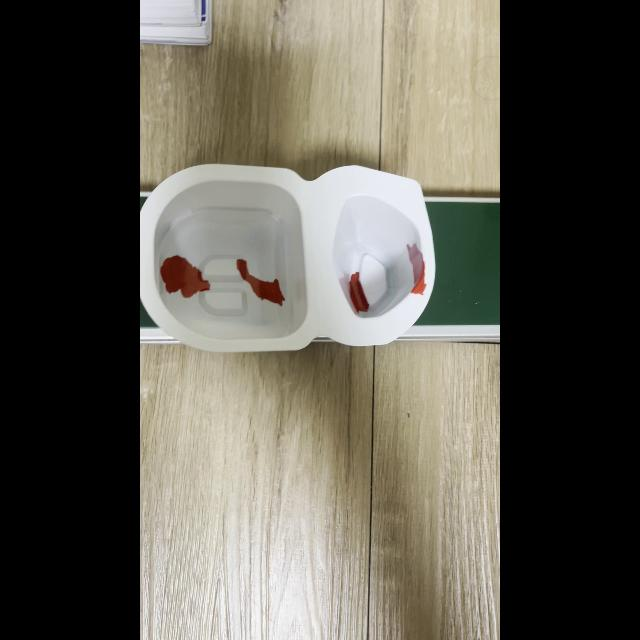dirty: (147, 192, 433, 341)
